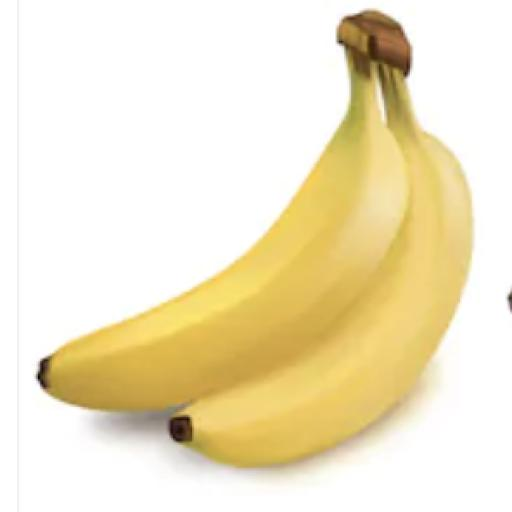banana: (39, 51, 408, 410), (170, 68, 472, 466)
